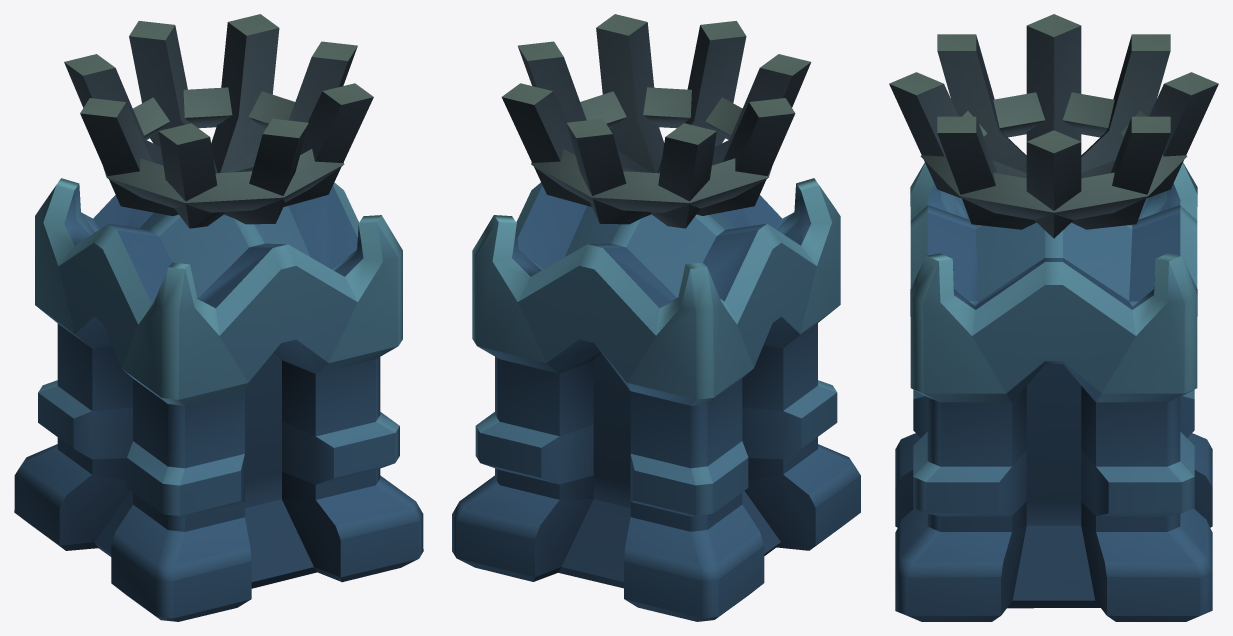
File: torch_2.fbx
The picture shows the model from 3 angles, left to right: view 1: azimuth 30°, elevation 25°; view 2: azimuth 150°, elevation 25°; view 3: azimuth 270°, elevation 25°; orthographic projection. The views are drawn at different scales.
Parts seen in each view (by area): view 1: torch_2; view 2: torch_2; view 3: torch_2.
Part boxes in pixels (bbox=[...]): torch_2: bbox=[14, 14, 423, 621]; torch_2: bbox=[452, 14, 860, 621]; torch_2: bbox=[889, 14, 1218, 621].
Bounding box in the file's own units: 130 × 207 × 130.
